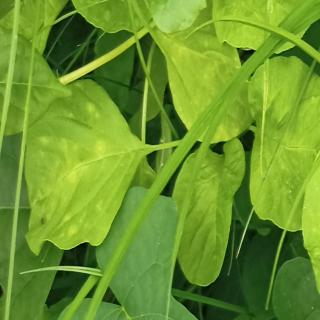karat_putih: (37, 128, 109, 237)
